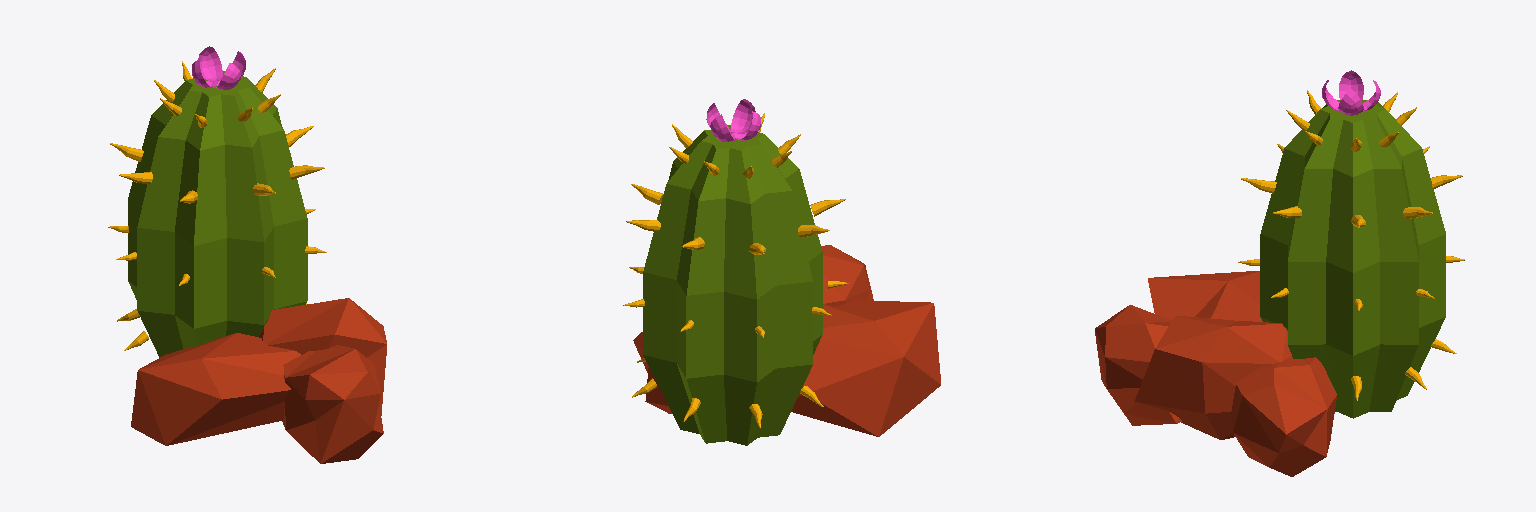
The picture shows the model from 3 angles: view 1: azimuth 30°, elevation 25°; view 2: azimuth 150°, elevation 25°; view 3: azimuth 270°, elevation 25°; orthographic projection.
Visible parts, largest first — view 1: CACTACEA_Circle.001, ROCKS_Cube.004, SPINES_Cylinder.012, Cube_Cube.005; view 2: CACTACEA_Circle.001, ROCKS_Cube.004, SPINES_Cylinder.012, Cube_Cube.005; view 3: CACTACEA_Circle.001, ROCKS_Cube.004, SPINES_Cylinder.012, Cube_Cube.005.
Boxes of the visible parts, x1=… form: CACTACEA_Circle.001: x1=128, y1=71, x2=307, y2=357; ROCKS_Cube.004: x1=131, y1=298, x2=386, y2=463; SPINES_Cylinder.012: x1=108, y1=61, x2=326, y2=350; Cube_Cube.005: x1=192, y1=46, x2=245, y2=89; CACTACEA_Circle.001: x1=643, y1=125, x2=822, y2=445; ROCKS_Cube.004: x1=633, y1=245, x2=940, y2=436; SPINES_Cylinder.012: x1=623, y1=113, x2=848, y2=428; Cube_Cube.005: x1=706, y1=99, x2=760, y2=141; CACTACEA_Circle.001: x1=1260, y1=99, x2=1445, y2=418; ROCKS_Cube.004: x1=1095, y1=271, x2=1336, y2=476; SPINES_Cylinder.012: x1=1238, y1=90, x2=1464, y2=400; Cube_Cube.005: x1=1322, y1=70, x2=1380, y2=115.
Bounding box in the file's own units: 5.6 × 7.14 × 6.83.
Materials: 4 (1 with a texture image).